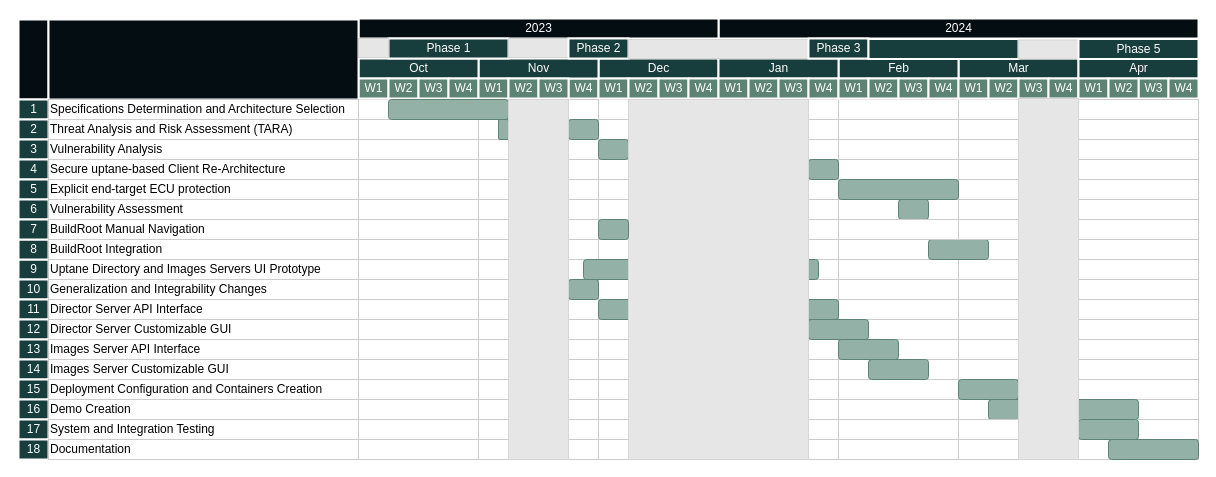
Some shapes in this 1216 by 477 pixel diagram are drawn without their labels. Each missing label, with the centre of its shape:
Phase 4: point 943,49
Task Name: point 203,59
